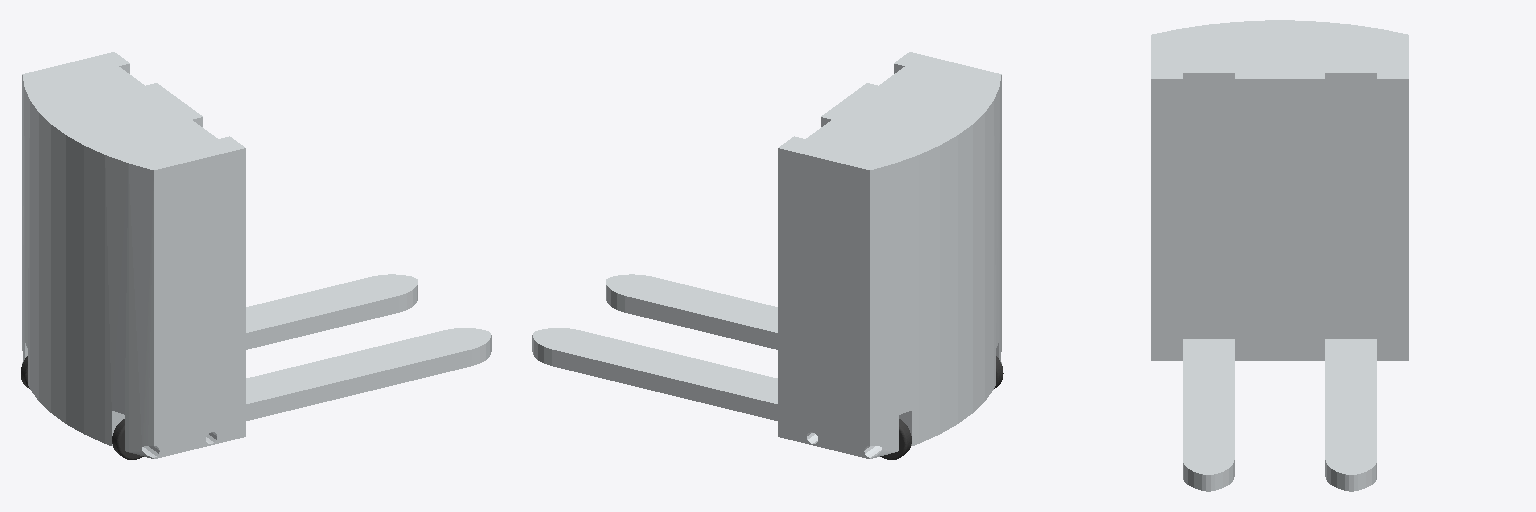
The robot description file, URDF, robot "F4-1000C":
<?xml version="1.0" encoding="utf-8"?>
<!-- This URDF was automatically created by SolidWorks to URDF Exporter! Originally created by Stephen Brawner (brawner@gmail.com) 
     Commit Version: 1.6.0-4-g7f85cfe  Build Version: 1.6.7995.38578
     For more information, please see http://wiki.ros.org/sw_urdf_exporter -->
<robot
  name="F4-1000C">
  <link
    name="base_link">
    <inertial>
      <origin
        xyz="-0.25509556705506 1.70188344306155E-07 0.00956131679620198"
        rpy="0 0 0" />
      <mass
        value="1476.38884748495" />
      <inertia
        ixx="283.612482002626"
        ixy="-0.000250094122819586"
        ixz="0.219788395429889"
        iyy="201.076576743826"
        iyz="-1.46698386887134E-05"
        izz="139.717141754839" />
    </inertial>
    <visual>
      <origin
        xyz="0 0 0"
        rpy="0 0 0" />
      <geometry>
        <mesh
          filename="package://F4-1000C/meshes/base_link.STL" />
      </geometry>
      <material
        name="">
        <color
          rgba="0.898039215686275 0.917647058823529 0.929411764705882 1" />
      </material>
    </visual>
    <collision>
      <origin
        xyz="0 0 0"
        rpy="0 0 0" />
      <geometry>
        <mesh
          filename="package://F4-1000C/meshes/base_link.STL" />
      </geometry>
    </collision>
  </link>
  <link
    name="left-front-wheel">
    <inertial>
      <origin
        xyz="-5.55111512312578E-17 0 -3.46944695195361E-18"
        rpy="0 0 0" />
      <mass
        value="1.28970297294905" />
      <inertia
        ixx="0.0025481102243417"
        ixy="6.48729109351191E-19"
        ixz="-1.70192636025912E-20"
        iyy="0.00457500887321458"
        iyz="2.39463127818459E-19"
        izz="0.0025481102243417" />
    </inertial>
    <visual>
      <origin
        xyz="0 0 0"
        rpy="0 0 0" />
      <geometry>
        <mesh
          filename="package://F4-1000C/meshes/left-front-wheel.STL" />
      </geometry>
      <material
        name="">
        <color
          rgba="0.298039215686275 0.298039215686275 0.298039215686275 1" />
      </material>
    </visual>
    <collision>
      <origin
        xyz="0 0 0"
        rpy="0 0 0" />
      <geometry>
        <mesh
          filename="package://F4-1000C/meshes/left-front-wheel.STL" />
      </geometry>
    </collision>
  </link>
  <joint
    name="left-front-wheel"
    type="continuous">
    <origin
      xyz="-0.15 0.345 -0.57"
      rpy="0 0 0" />
    <parent
      link="base_link" />
    <child
      link="left-front-wheel" />
    <axis
      xyz="0 1 0" />
  </joint>
  <link
    name="right-front-wheel">
    <inertial>
      <origin
        xyz="-2.7756E-17 1.1102E-16 -3.4694E-18"
        rpy="0 0 0" />
      <mass
        value="1.2897" />
      <inertia
        ixx="0.0025481"
        ixy="8.9182E-20"
        ixz="-1.4535E-35"
        iyy="0.004575"
        iyz="-1.0072E-34"
        izz="0.0025481" />
    </inertial>
    <visual>
      <origin
        xyz="0 0 0"
        rpy="0 0 0" />
      <geometry>
        <mesh
          filename="package://F4-1000C/meshes/right-front-wheel.STL" />
      </geometry>
      <material
        name="">
        <color
          rgba="0.29804 0.29804 0.29804 1" />
      </material>
    </visual>
    <collision>
      <origin
        xyz="0 0 0"
        rpy="0 0 0" />
      <geometry>
        <mesh
          filename="package://F4-1000C/meshes/right-front-wheel.STL" />
      </geometry>
    </collision>
  </link>
  <joint
    name="right-front-wheel"
    type="continuous">
    <origin
      xyz="-0.15 -0.345 -0.57"
      rpy="0 0 0" />
    <parent
      link="base_link" />
    <child
      link="right-front-wheel" />
    <axis
      xyz="0 1 0" />
  </joint>
  <link
    name="left-back-wheel">
    <inertial>
      <origin
        xyz="9.8261E-19 -2.7756E-17 -3.4694E-18"
        rpy="0 0 0" />
      <mass
        value="1.2897" />
      <inertia
        ixx="0.0025481"
        ixy="5.137E-19"
        ixz="-9.962E-35"
        iyy="0.004575"
        iyz="-3.9307E-19"
        izz="0.0025481" />
    </inertial>
    <visual>
      <origin
        xyz="0 0 0"
        rpy="0 0 0" />
      <geometry>
        <mesh
          filename="package://F4-1000C/meshes/left-back-wheel.STL" />
      </geometry>
      <material
        name="">
        <color
          rgba="0.29804 0.29804 0.29804 1" />
      </material>
    </visual>
    <collision>
      <origin
        xyz="0 0 0"
        rpy="0 0 0" />
      <geometry>
        <mesh
          filename="package://F4-1000C/meshes/left-back-wheel.STL" />
      </geometry>
    </collision>
  </link>
  <joint
    name="left-back-wheel"
    type="continuous">
    <origin
      xyz="-0.4 0.345 -0.57"
      rpy="0 0 0" />
    <parent
      link="base_link" />
    <child
      link="left-back-wheel" />
    <axis
      xyz="0 1 0" />
  </joint>
  <link
    name="right-back-wheel">
    <inertial>
      <origin
        xyz="1.67904392943369E-18 0 -3.46944695195361E-18"
        rpy="0 0 0" />
      <mass
        value="1.28970297294906" />
      <inertia
        ixx="0.0025481102243417"
        ixy="-1.42114941576933E-18"
        ixz="6.54587061638121E-21"
        iyy="0.00457500887321459"
        iyz="6.04461613839555E-20"
        izz="0.0025481102243417" />
    </inertial>
    <visual>
      <origin
        xyz="0 0 0"
        rpy="0 0 0" />
      <geometry>
        <mesh
          filename="package://F4-1000C/meshes/right-back-wheel.STL" />
      </geometry>
      <material
        name="">
        <color
          rgba="0.298039215686275 0.298039215686275 0.298039215686275 1" />
      </material>
    </visual>
    <collision>
      <origin
        xyz="0 0 0"
        rpy="0 0 0" />
      <geometry>
        <mesh
          filename="package://F4-1000C/meshes/right-back-wheel.STL" />
      </geometry>
    </collision>
  </link>
  <joint
    name="right-back-wheel"
    type="continuous">
    <origin
      xyz="-0.4 -0.345 -0.57"
      rpy="0 0 0" />
    <parent
      link="base_link" />
    <child
      link="right-back-wheel" />
    <axis
      xyz="0 1 0" />
  </joint>
  <link
    name="fork">
    <inertial>
      <origin
        xyz="0.551768666736432 -3.88578058618805E-16 -0.565"
        rpy="0 0 0" />
      <mass
        value="90.9244280027149" />
      <inertia
        ixx="0.333123743141706"
        ixy="6.05644313946917E-15"
        ixz="-5.55887444166568E-18"
        iyy="11.0420920443029"
        iyz="3.70273279902964E-18"
        izz="11.3009608379091" />
    </inertial>
    <visual>
      <origin
        xyz="0 0 0"
        rpy="0 0 0" />
      <geometry>
        <mesh
          filename="package://F4-1000C/meshes/fork.STL" />
      </geometry>
      <material
        name="">
        <color
          rgba="0.898039215686275 0.917647058823529 0.929411764705882 1" />
      </material>
    </visual>
    <collision>
      <origin
        xyz="0 0 0"
        rpy="0 0 0" />
      <geometry>
        <mesh
          filename="package://F4-1000C/meshes/fork.STL" />
      </geometry>
    </collision>
  </link>
  <joint
    name="fork-lift"
    type="prismatic">
    <origin
      xyz="0 0 0"
      rpy="0 0 0" />
    <parent
      link="base_link" />
    <child
      link="fork" />
    <axis
      xyz="0 0 -1" />
    <limit
      lower="-2"
      upper="0"
      effort="0"
      velocity="0" />
  </joint>
</robot>

--- Facts derived from the render (not from the file) ---
The picture shows the robot from 3 angles, left to right: view 1: azimuth 30°, elevation 25°; view 2: azimuth 150°, elevation 25°; view 3: azimuth 270°, elevation 25°; orthographic projection.
Robot: F4-1000C — 6 links, 5 joints (4 continuous, 1 prismatic); root link base_link; default pose: every joint at zero.
Visible links, largest first — view 1: base_link, fork; view 2: base_link, fork; view 3: base_link, fork.
Boxes of the visible links, x1,y1,x2,y2 form: base_link: (22, 52, 245, 458); fork: (246, 274, 491, 420); base_link: (778, 52, 1001, 458); fork: (532, 274, 777, 420); base_link: (1151, 20, 1408, 360); fork: (1183, 339, 1376, 491).
Size in the robot's own frame: 1.72 by 0.99 by 1.25 metres.
Meshes: 6 distinct files referenced, 6 mesh visuals loaded (6 binary STL).
